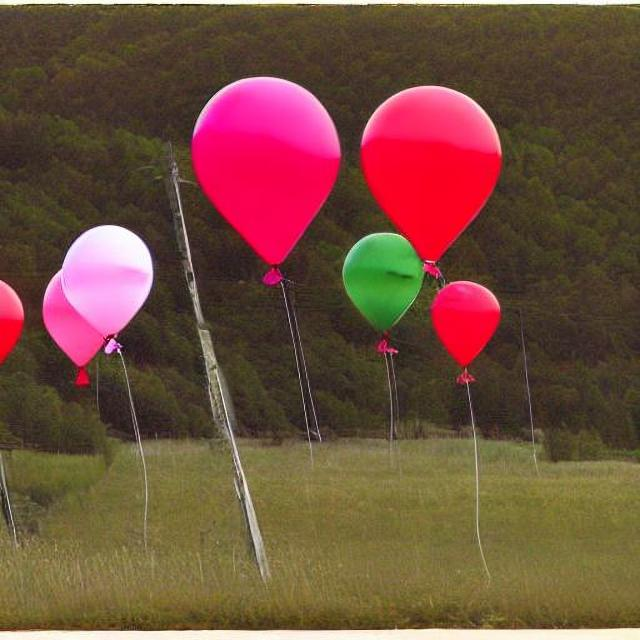balloon: (181, 77, 350, 276), (368, 84, 518, 253), (28, 221, 161, 379), (345, 220, 415, 342), (424, 277, 502, 378)
